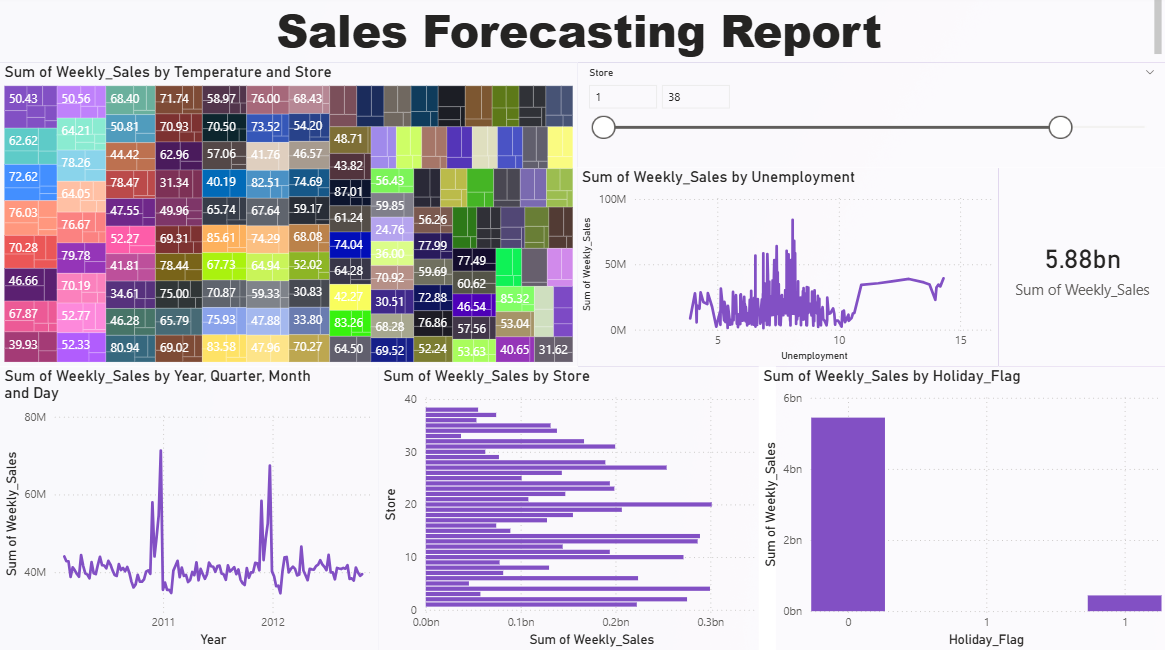

The dashboard page shown, as its layout file describes it:
{"tool":"powerbi","page":{"name":"Page 2","canvas":[1280,720],"ordinal":1},"visuals":[{"type":"lineChart","fields":{"Category":["Walmart_Store_sales.Date.Variation.Date Hierarchy.Year","Walmart_Store_sales.Date.Variation.Date Hierarchy.Quarter","Walmart_Store_sales.Date.Variation.Date Hierarchy.Month","Walmart_Store_sales.Date.Variation.Date Hierarchy.Day"],"Y":["Sum(Walmart_Store_sales.Weekly_Sales)"]},"box":[0,407.5,415.8,312.9],"z":0},{"type":"clusteredBarChart","fields":{"Category":["Walmart_Store_sales.Store"],"Y":["Sum(Walmart_Store_sales.Weekly_Sales)"]},"box":[415.8,407.1,436.4,312.9],"z":1000},{"type":"columnChart","fields":{"Category":["Walmart_Store_sales.Holiday_Flag"],"Y":["Sum(Walmart_Store_sales.Weekly_Sales)"]},"box":[832.7,407.1,447.3,312.9],"z":2000},{"type":"treemap","fields":{"Group":["Walmart_Store_sales.Temperature"],"Details":["Walmart_Store_sales.Store"],"Values":["Sum(Walmart_Store_sales.Weekly_Sales)"]},"box":[0,74,634,334],"z":3000},{"type":"lineChart","fields":{"Category":["Walmart_Store_sales.Unemployment"],"Y":["Sum(Walmart_Store_sales.Weekly_Sales)"]},"box":[634,190,462,218],"z":4000},{"type":"card","fields":{"Values":["Sum(Walmart_Store_sales.Weekly_Sales)"]},"box":[1096,190,184,218],"z":5000},{"type":"slicer","fields":{"Values":["Walmart_Store_sales.Store"]},"box":[634,74,646,116],"z":6000},{"type":"textbox","box":[0,0,1280,74],"z":7000}]}

Visuals, with their boxes in screenshot pixels (x1, y1, x2, y2), scaled from the page's 1280x720 canvas onto the 1165x650 screenshot:
lineChart - Walmart_Store_sales.Date.Variation.Date Hierarchy.Year x Walmart_Store_sales.Date.Variation.Date Hierarchy.Quarter: x1=0, y1=368, x2=378, y2=649
clusteredBarChart - Walmart_Store_sales.Store x Sum(Walmart_Store_sales.Weekly_Sales): x1=378, y1=368, x2=776, y2=649
columnChart - Walmart_Store_sales.Holiday_Flag x Sum(Walmart_Store_sales.Weekly_Sales): x1=758, y1=368, x2=1164, y2=649
treemap - Walmart_Store_sales.Temperature x Walmart_Store_sales.Store: x1=0, y1=67, x2=577, y2=368
lineChart - Walmart_Store_sales.Unemployment x Sum(Walmart_Store_sales.Weekly_Sales): x1=577, y1=172, x2=998, y2=368
card - Sum(Walmart_Store_sales.Weekly_Sales): x1=998, y1=172, x2=1164, y2=368
slicer - Walmart_Store_sales.Store: x1=577, y1=67, x2=1164, y2=172
textbox: x1=0, y1=0, x2=1164, y2=67
